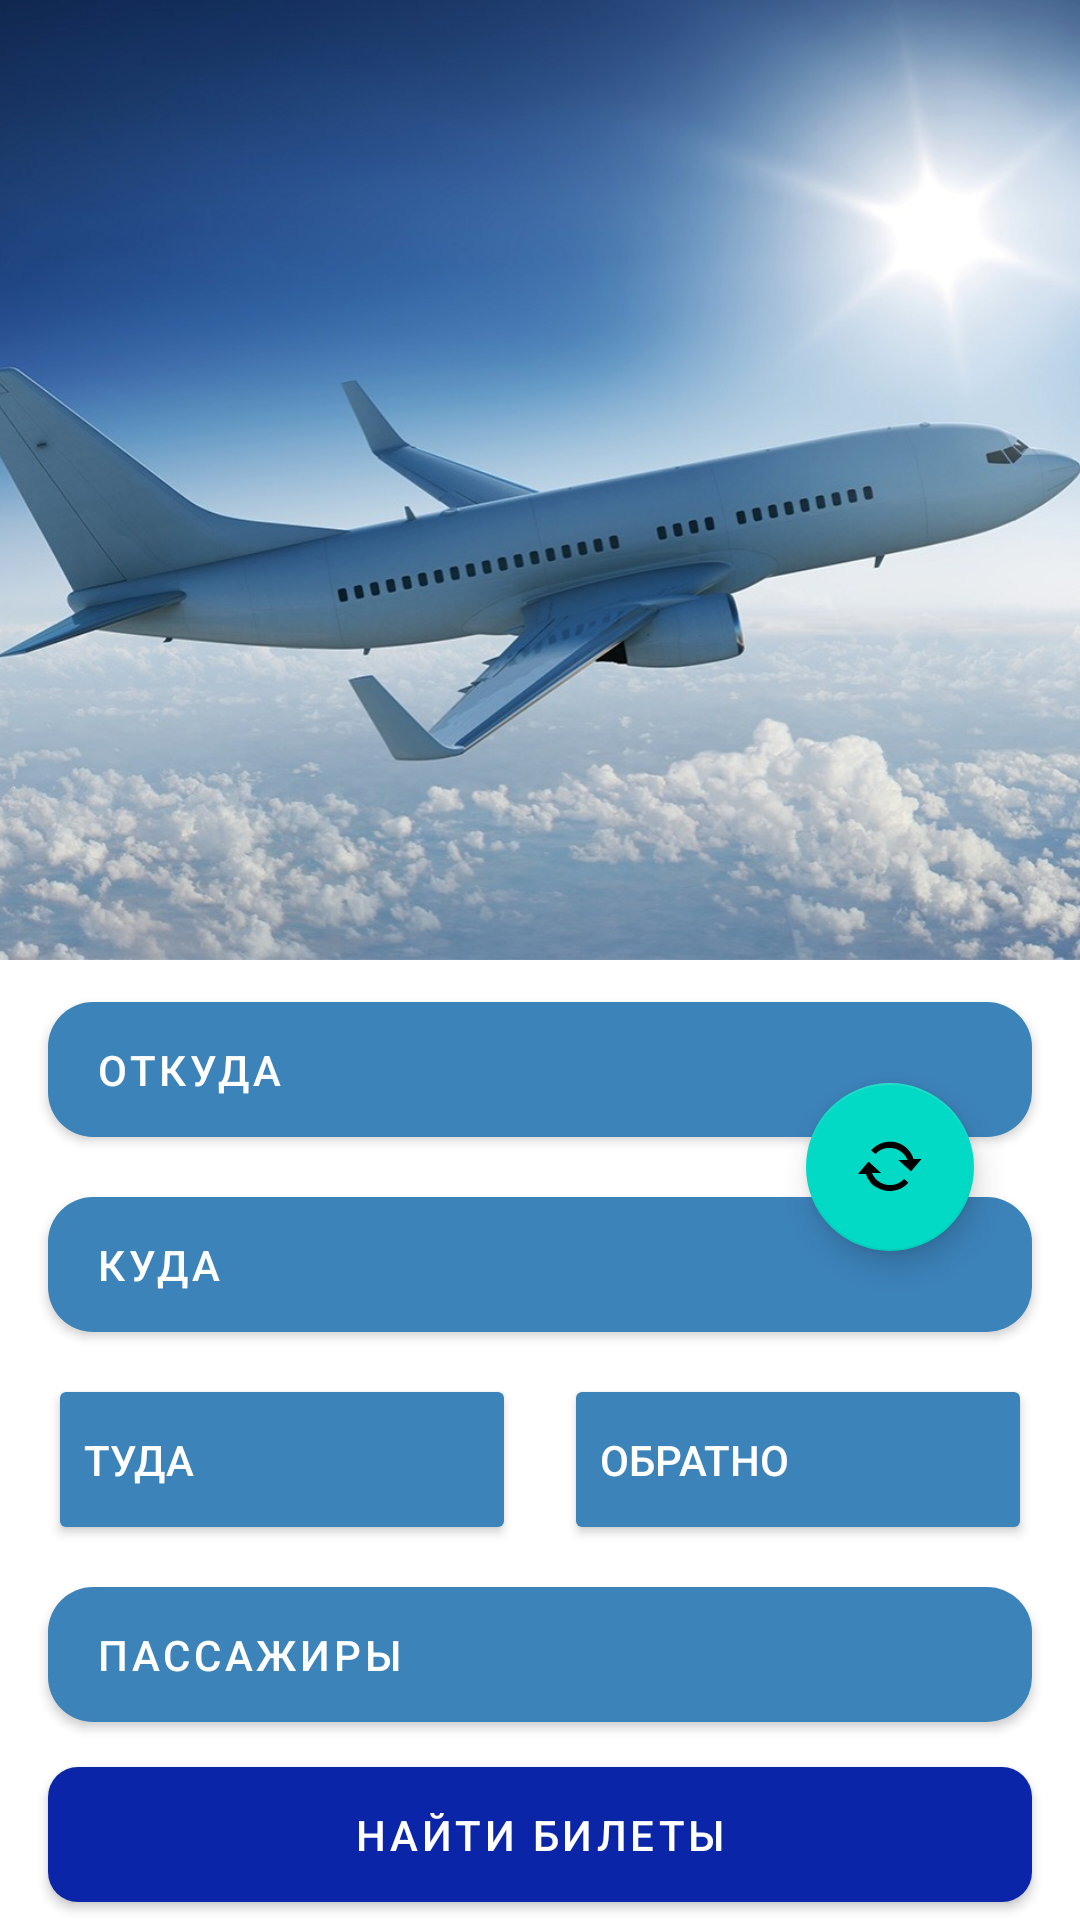

Locate icon controls on the screen. Image size 1080x1920, boxes as (x1, y1, x2, y2).
sync: (806, 1083, 974, 1251)
